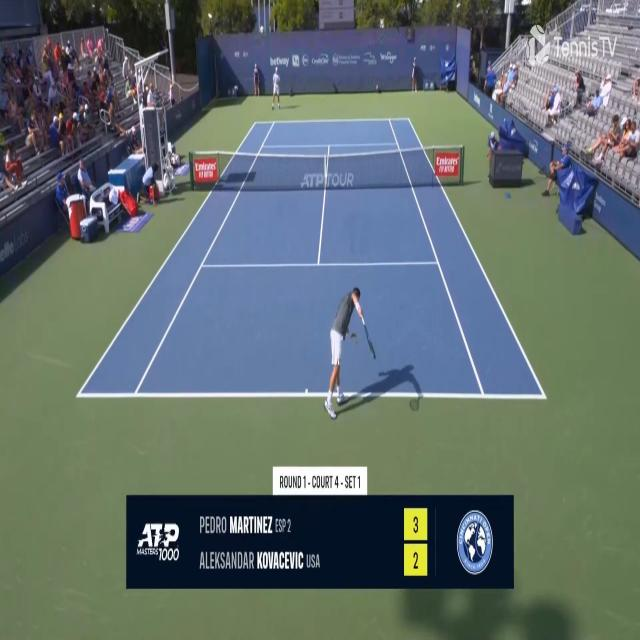tennis-player: (322, 282, 378, 422), (271, 62, 282, 109)
